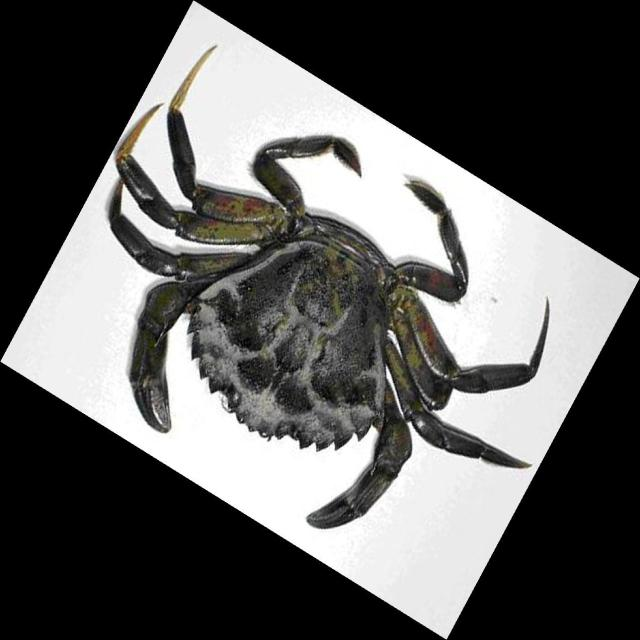European Green crab: (109, 46, 549, 529)
